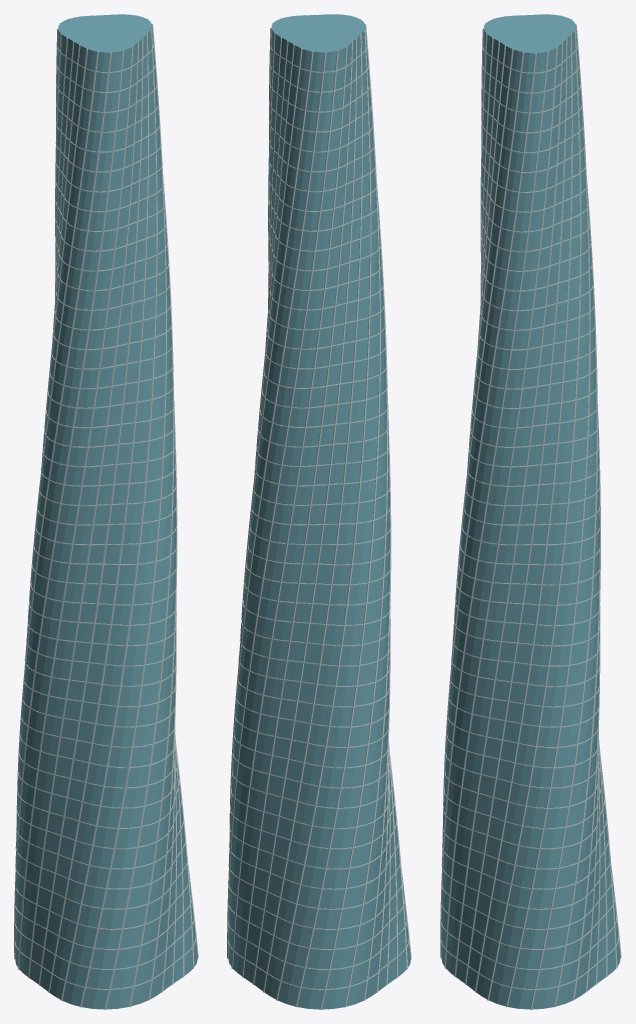
File: shanghai-tower.glb
3 views of the same model, side by side, from view 1: azimuth 30°, elevation 25°; view 2: azimuth 150°, elevation 25°; view 3: azimuth 270°, elevation 25° (orthographic).
Parts seen in each view (by area): view 1: shanghai-tower; view 2: shanghai-tower; view 3: shanghai-tower.
Boxes of the visible parts, <box> form: shanghai-tower: <box>14,14,198,1009</box>; shanghai-tower: <box>227,14,411,1009</box>; shanghai-tower: <box>440,14,621,1009</box>.
Size of the model in its own units: 111 by 632 by 111.
